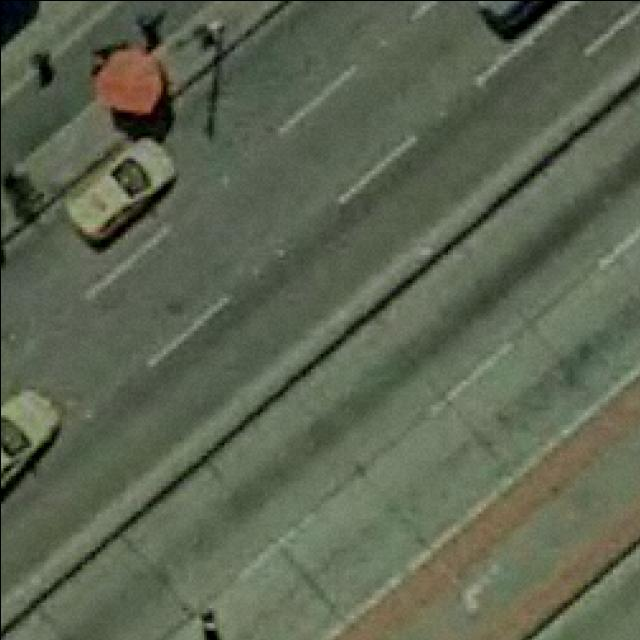vendedor_ambulante: (90, 42, 166, 119)
